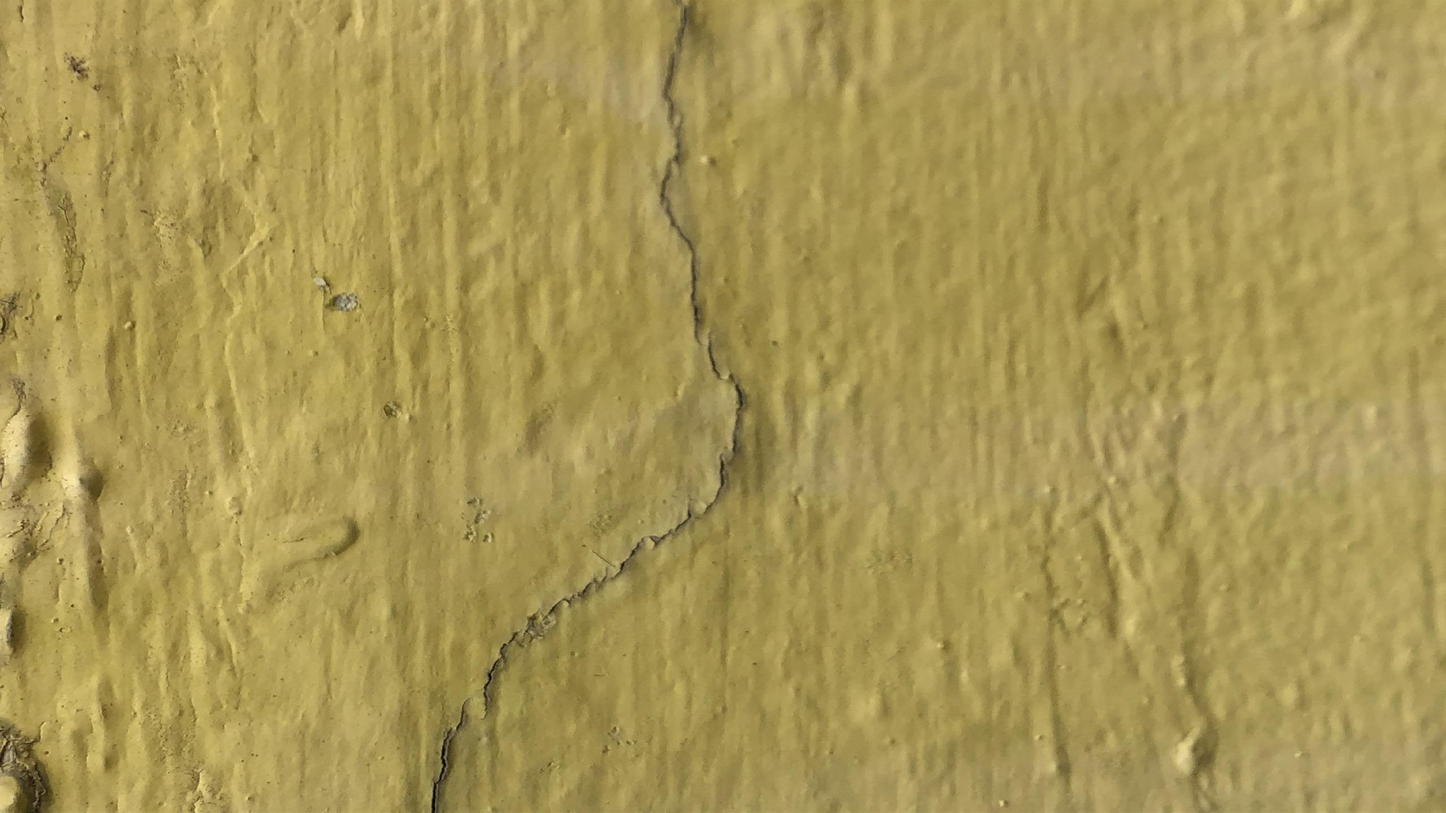crack: (422, 0, 753, 809)
